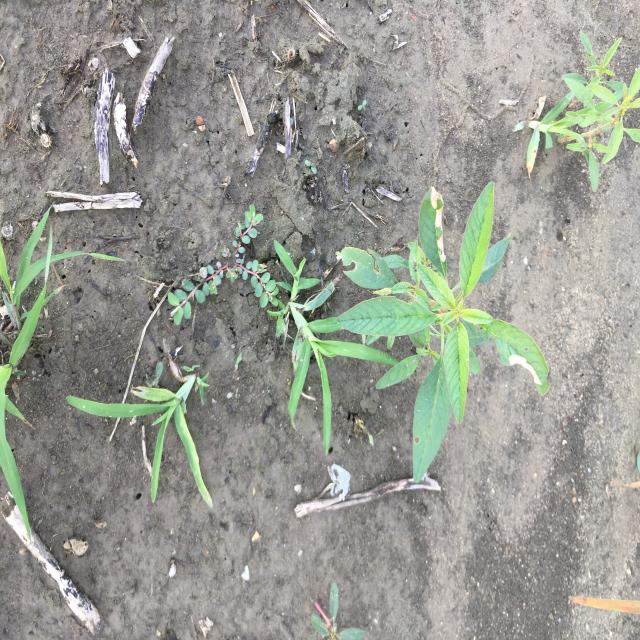Goosegrass: (267, 237, 403, 458), (64, 357, 215, 513), (513, 84, 590, 178)
SpottedSpurge: (166, 203, 280, 327)
Waterhemp: (335, 179, 552, 483), (560, 25, 638, 196)
